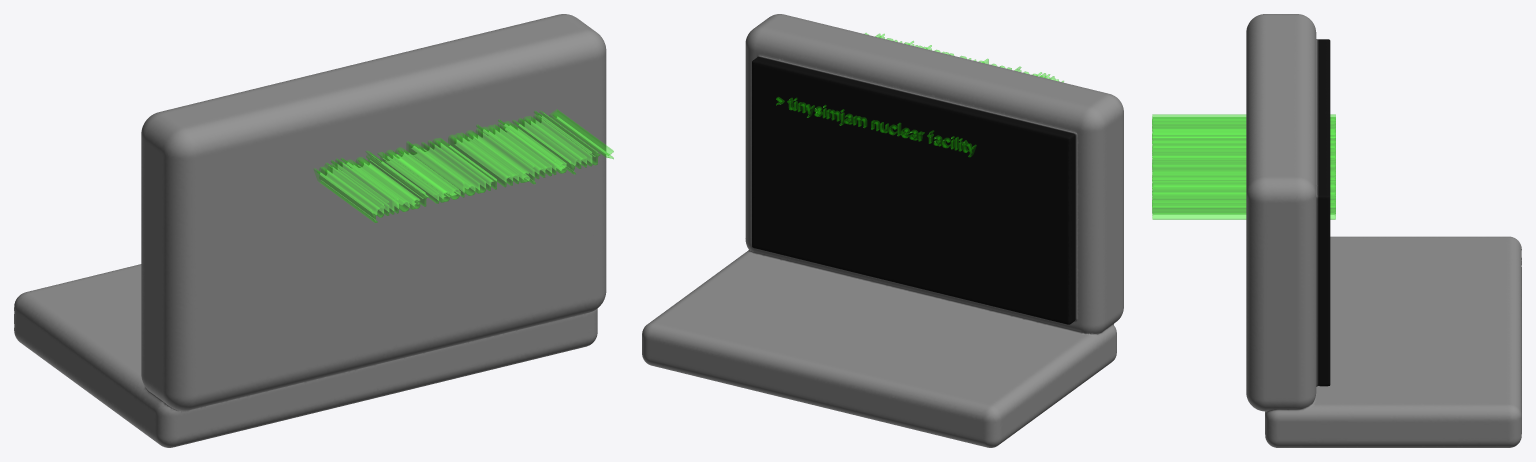
3 views of the same model, side by side, from view 1: azimuth 30°, elevation 25°; view 2: azimuth 150°, elevation 25°; view 3: azimuth 270°, elevation 25° (orthographic). The views are drawn at different scales.
Visible parts, largest first — view 1: Area (1), Area (2); view 2: Area (1), Area (2); view 3: Area (1), Area (2).
Boxes of the visible parts, box(x1,y1,x2,y2) form: Area (1): box(14, 14, 606, 447); Area (2): box(314, 109, 613, 222); Area (1): box(642, 14, 1123, 447); Area (2): box(776, 33, 1063, 156); Area (1): box(1246, 14, 1521, 447); Area (2): box(1152, 114, 1335, 219).
Bounding box in the file's own units: 45.72 × 32.08 × 40.24.
Materials: 2 (2 with a texture image).
